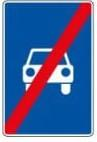road_sign: (2, 0, 95, 138)
